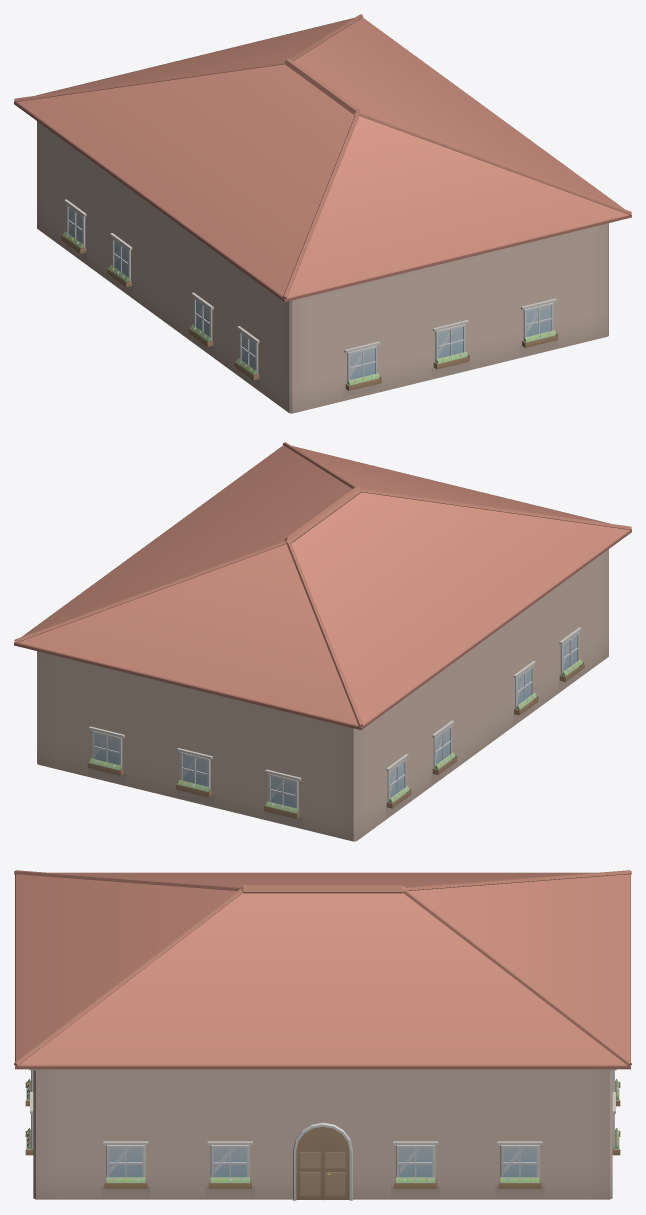
The model's file is pss_shell.glb.
3 views of the same model, one above another, from view 1: azimuth 30°, elevation 25°; view 2: azimuth 150°, elevation 25°; view 3: azimuth 270°, elevation 25° (orthographic). The views are drawn at different scales.
Parts seen in each view (by area): view 1: pss_roof, pss_body; view 2: pss_roof, pss_body; view 3: pss_roof, pss_body.
Part boxes in pixels (<box>): pss_roof: <box>14,14,631,302</box>; pss_body: <box>37,121,608,413</box>; pss_roof: <box>14,442,631,730</box>; pss_body: <box>37,549,608,841</box>; pss_roof: <box>14,870,631,1069</box>; pss_body: <box>25,1069,620,1200</box>.
Bounding box in the file's own units: 15.83 × 8.59 × 21.33.
